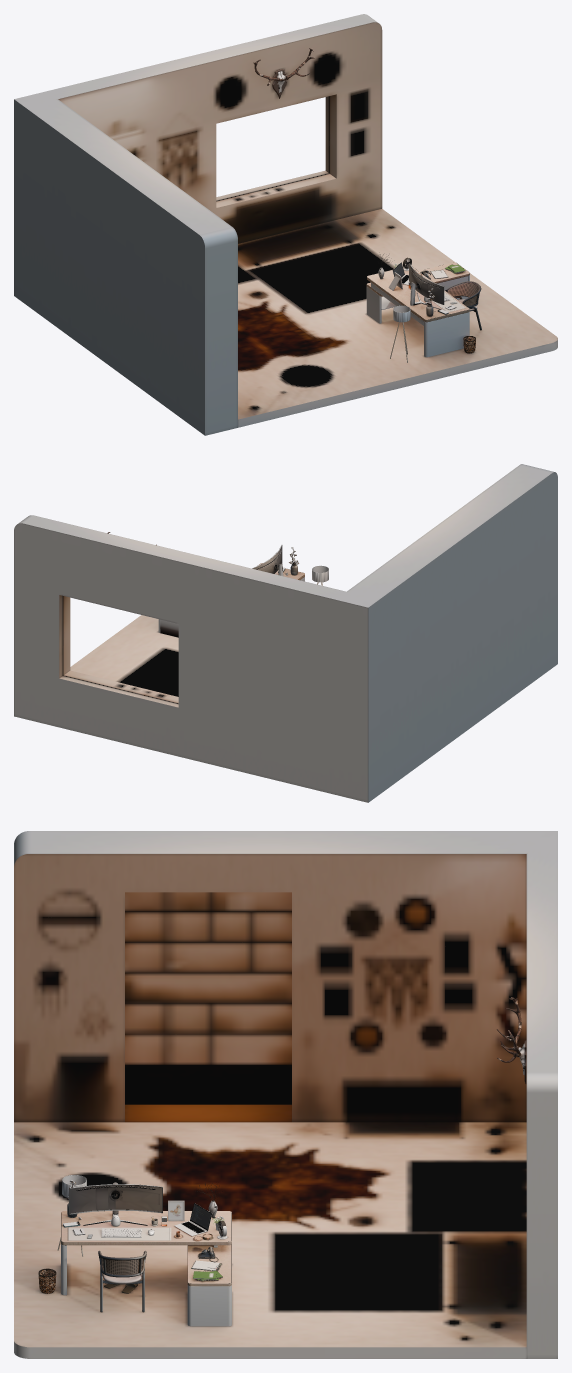
Rendered from Light1stoffice.glb.
3 renders of one model, top to bottom at view 1: azimuth 30°, elevation 25°; view 2: azimuth 150°, elevation 25°; view 3: azimuth 270°, elevation 25°, orthographic. The views are drawn at different scales.
Visible parts, largest first — view 1: Antler trophy display_Baked.005, Slippers_Baked, LAMP_SHADE_GRAY_Baked; view 2: Antler trophy display_Baked.005, LAMP_SHADE_GRAY_Baked, Slippers_Baked; view 3: Antler trophy display_Baked.005, Slippers_Baked, LAMP_SHADE_GRAY_Baked, MousePad_Baked.
Boxes of the visible parts, bbox=[...] form: Antler trophy display_Baked.005: bbox=[14, 14, 557, 435]; Slippers_Baked: bbox=[366, 262, 481, 357]; LAMP_SHADE_GRAY_Baked: bbox=[388, 257, 456, 362]; Antler trophy display_Baked.005: bbox=[14, 464, 557, 802]; LAMP_SHADE_GRAY_Baked: bbox=[252, 545, 328, 585]; Slippers_Baked: bbox=[158, 563, 304, 637]; Antler trophy display_Baked.005: bbox=[14, 831, 557, 1358]; Slippers_Baked: bbox=[61, 1211, 231, 1326]; LAMP_SHADE_GRAY_Baked: bbox=[57, 1175, 227, 1270]; MousePad_Baked: bbox=[68, 1227, 171, 1240].
Size of what is drawn, in the model's own units: 5.87 by 3.09 by 5.44.
31 materials, 31 textured.
